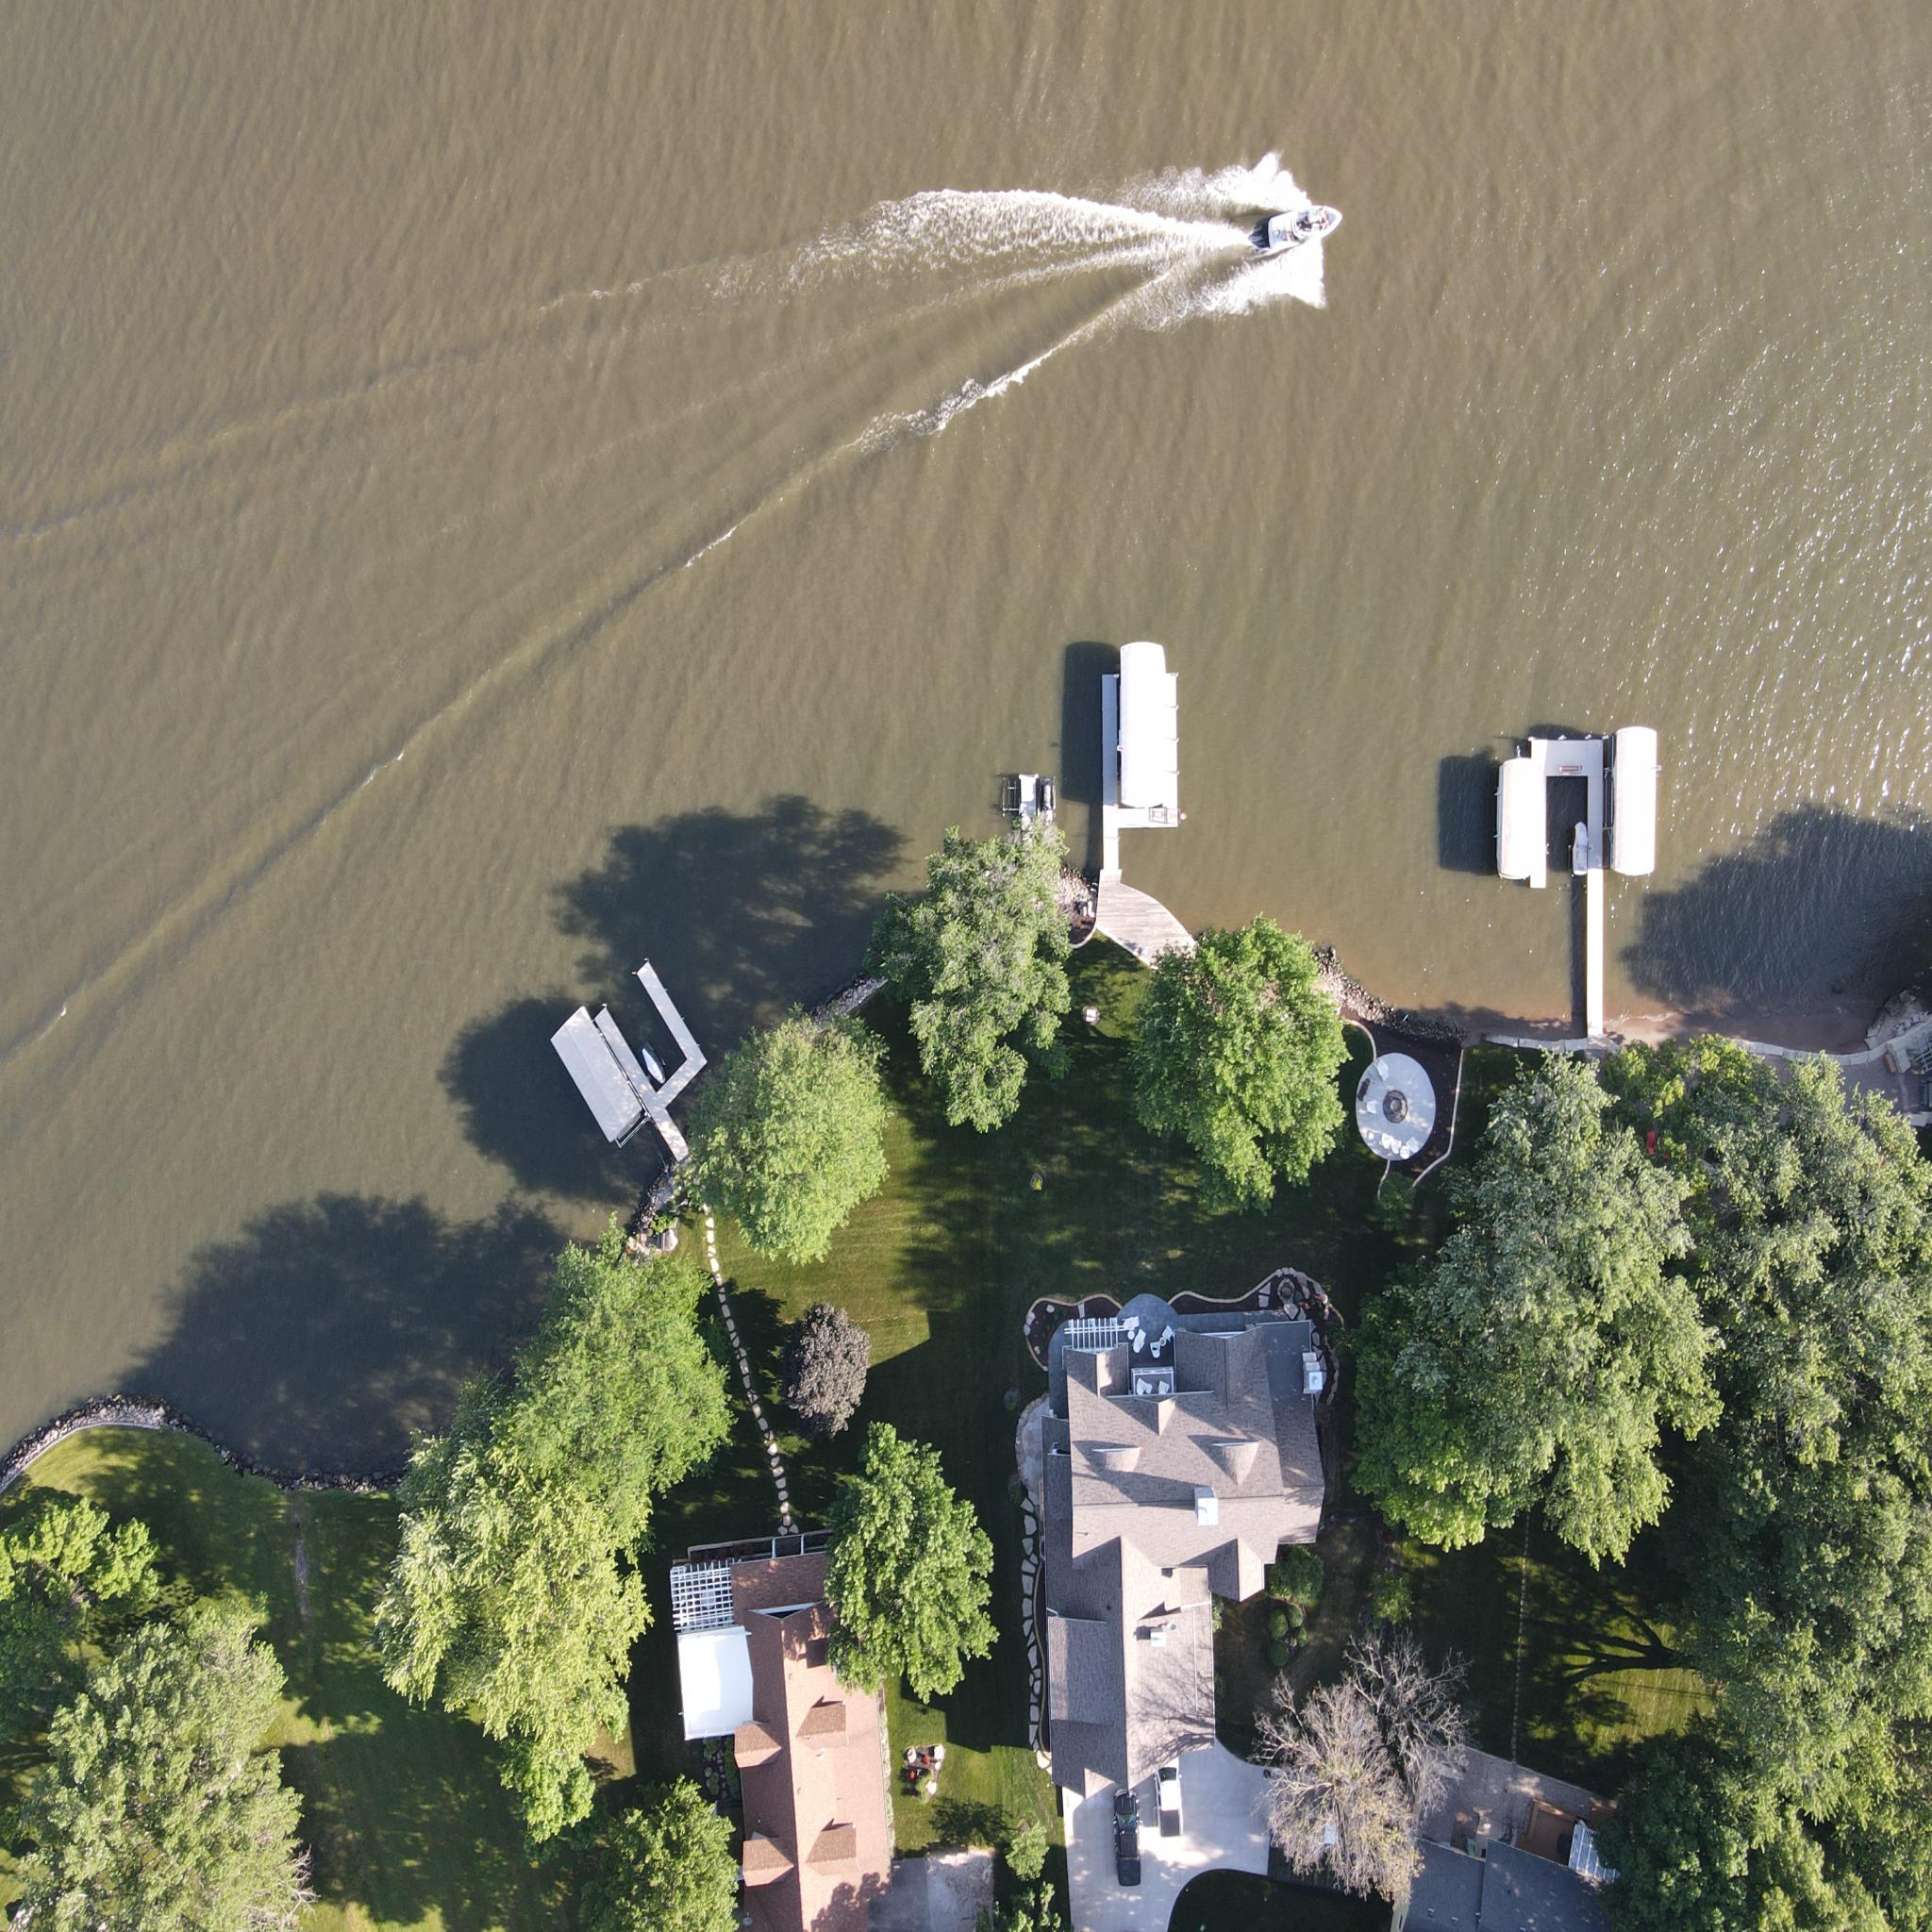boat: (1242, 193, 1359, 267)
car: (1155, 1759, 1200, 1854), (1106, 1782, 1141, 1897)
dock: (1530, 727, 1626, 1065), (1086, 649, 1194, 915), (587, 962, 711, 1184), (1016, 770, 1044, 846)
jetski: (1562, 814, 1592, 890), (637, 1040, 669, 1085), (1039, 771, 1060, 828)
lift: (545, 1005, 646, 1152), (1606, 715, 1672, 886), (1116, 640, 1169, 814), (1497, 748, 1550, 899)
